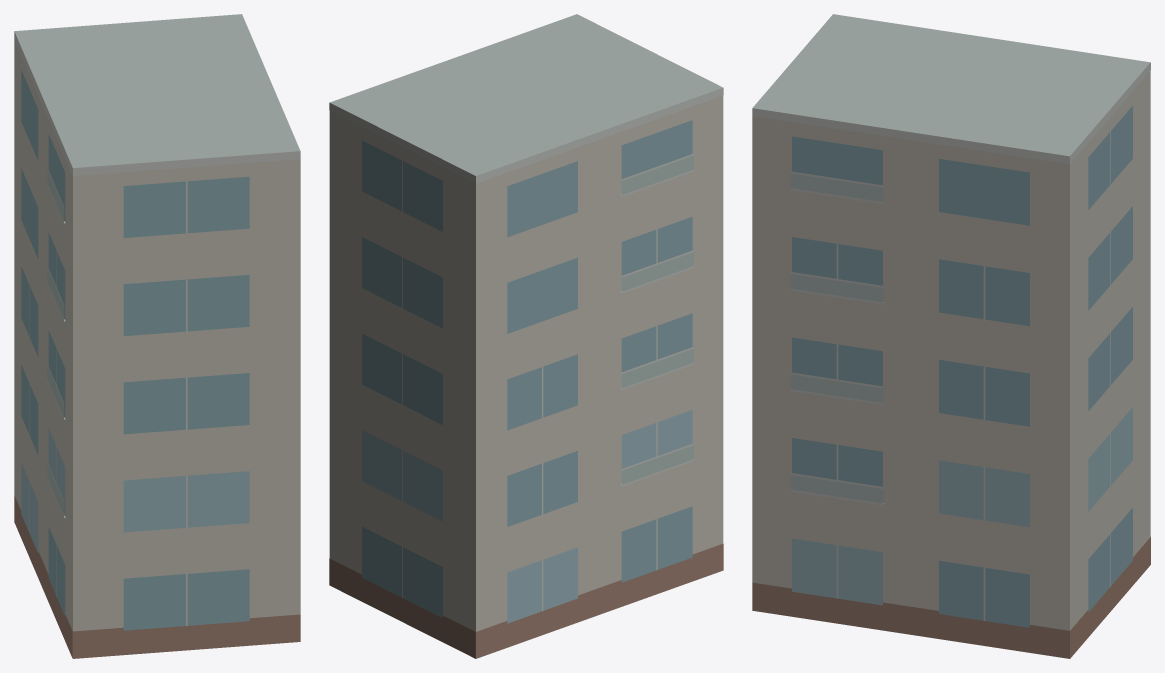
Rendered from survey-upis-32509087.glb.
3 views of the same model, side by side, from view 1: azimuth 30°, elevation 25°; view 2: azimuth 150°, elevation 25°; view 3: azimuth 270°, elevation 25° (orthographic). The views are drawn at different scales.
Visible parts, largest first — view 1: survey-upis-32509087.tmp; view 2: survey-upis-32509087.tmp; view 3: survey-upis-32509087.tmp.
Boxes of the visible parts, left/top/right/bottom form: survey-upis-32509087.tmp: left=14, top=14, right=300, bottom=658; survey-upis-32509087.tmp: left=329, top=14, right=723, bottom=658; survey-upis-32509087.tmp: left=752, top=14, right=1150, bottom=658.
Bounding box in the file's own units: 9.3 × 15.3 × 11.
